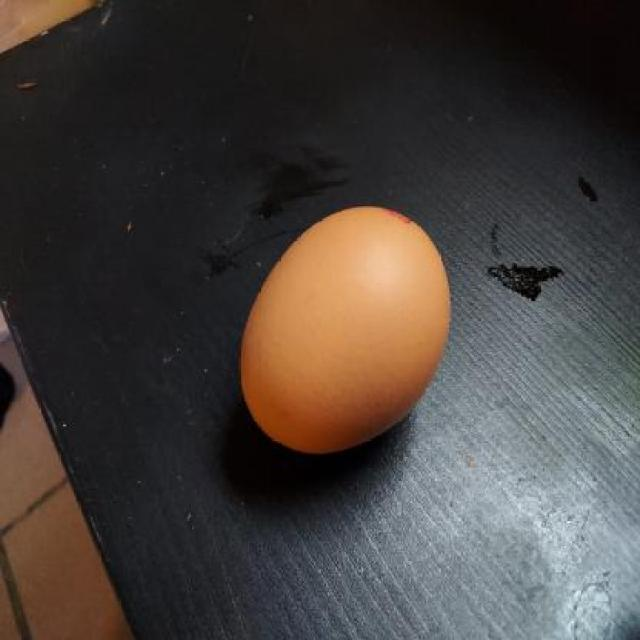biodegradable: (233, 200, 458, 465)
